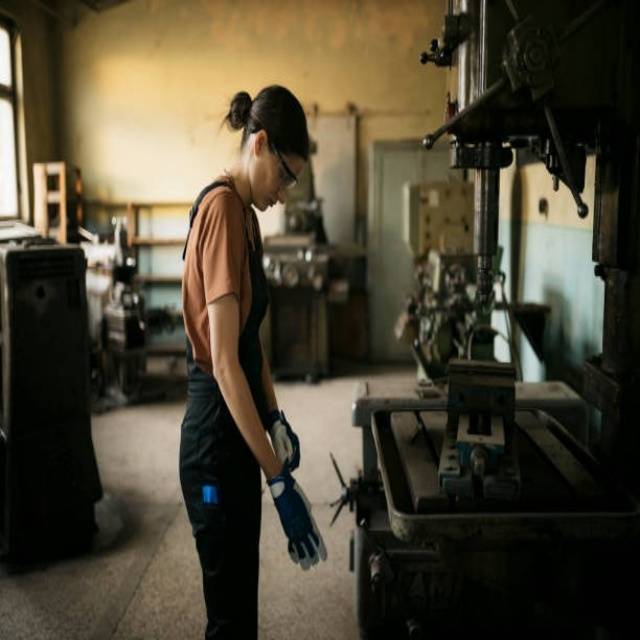Gafas: (266, 132, 300, 189)
Guantes: (267, 469, 325, 569), (267, 409, 300, 472)
Sin_mascara: (258, 187, 284, 224)
